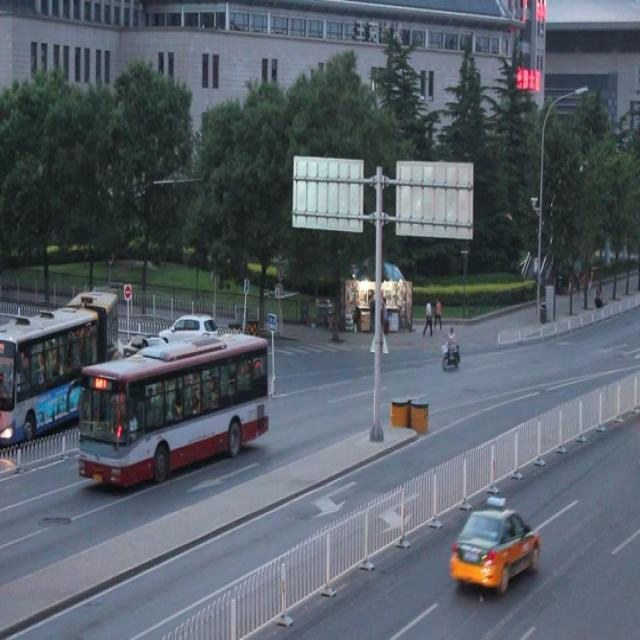car: (450, 497, 540, 598), (120, 324, 172, 381), (160, 309, 219, 359)
van: (82, 330, 268, 490), (0, 288, 119, 440)
